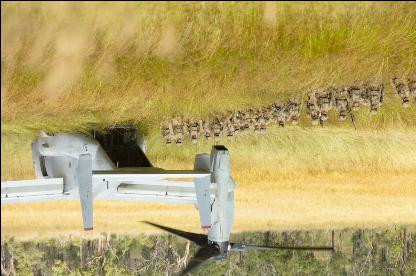Tornado: (1, 127, 334, 273)
